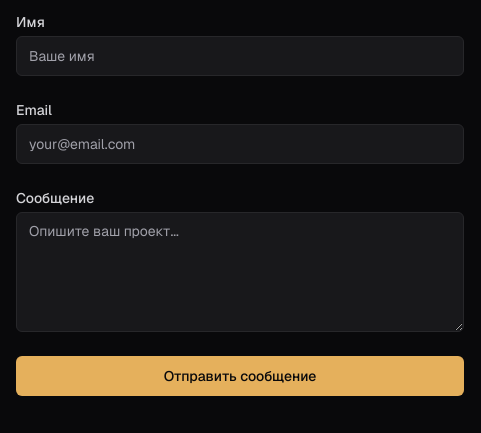
Test: ContactForm › validates email format correctly
Type "Ivan" into the field with test id "input-name" at point(240, 56), box [16,36,464,76]
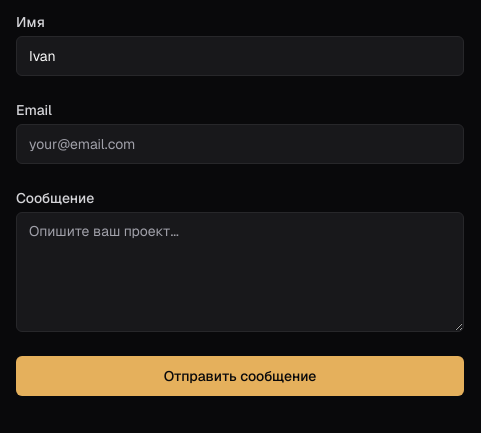
Type "invalid-email" into the field with test id "input-email" at point(240, 144), box [16,124,464,164]
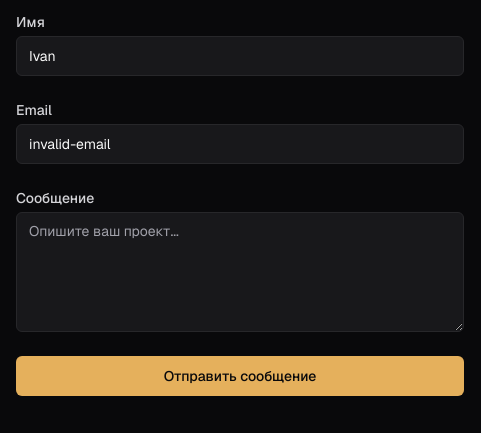
Type "Hello world, this is a test message." into the text box with test id "input-message" at point(240, 272), box [16,212,464,332]
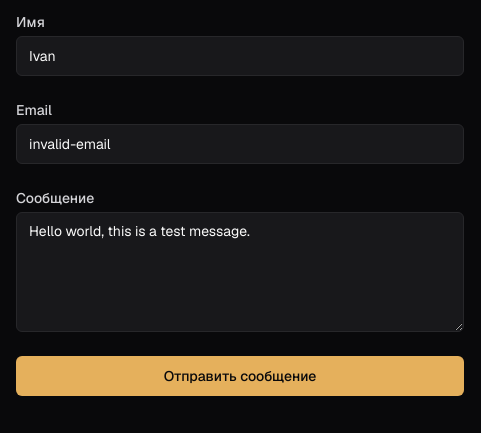
Click the button with test id "submit-btn" at point(240, 376), box [16,356,464,396]
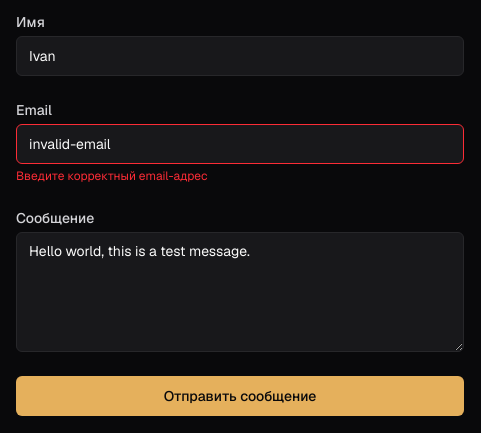
Expected: the text "Введите корректный email-адрес" is shown, [16,168,208,184]
